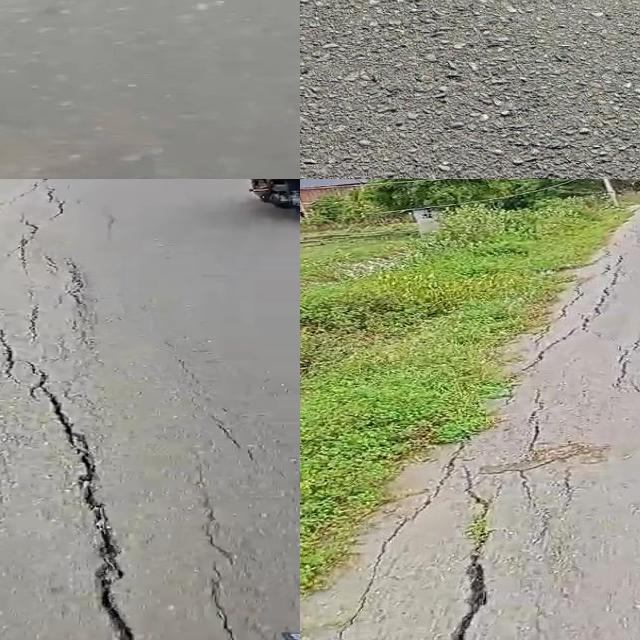Memanjang: (0, 329, 147, 640)
Pinggir: (300, 232, 640, 640)
